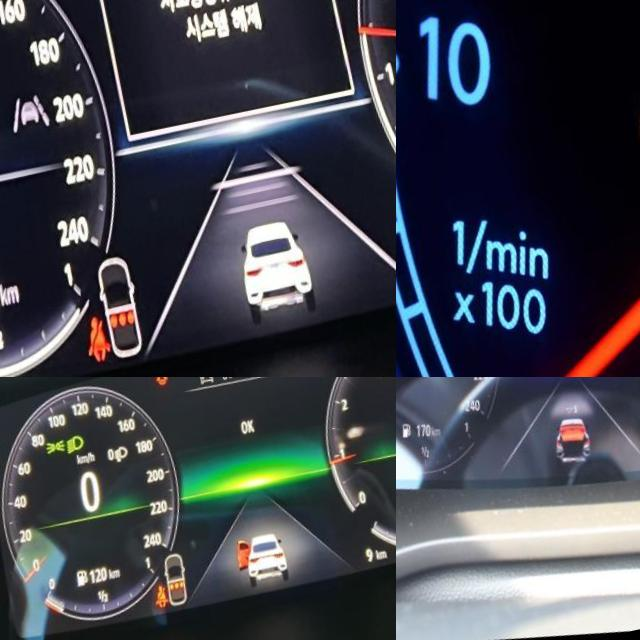Doors: (142, 377, 160, 398)
Low beam: (52, 440, 74, 465)
SideLamp: (31, 444, 54, 463)
